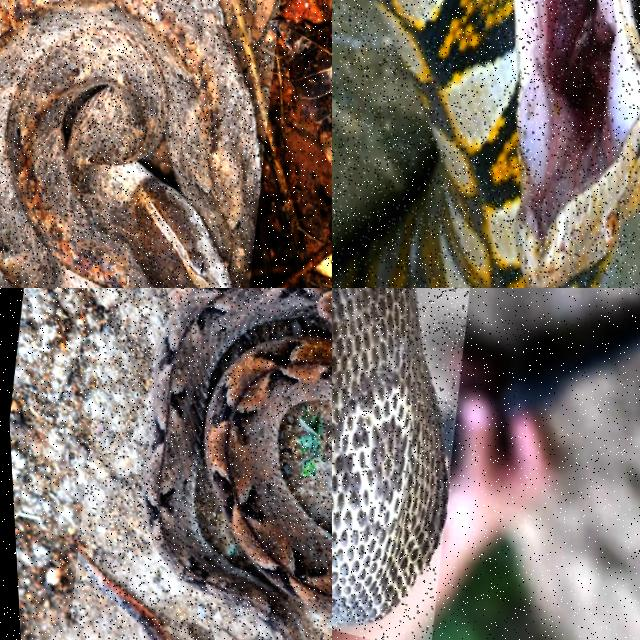Calloselasma rhodostoma: (0, 0, 259, 287), (143, 288, 331, 639)
Malayopython reticulatus: (332, 0, 526, 287)
Naja kaouthia: (332, 288, 447, 625)
